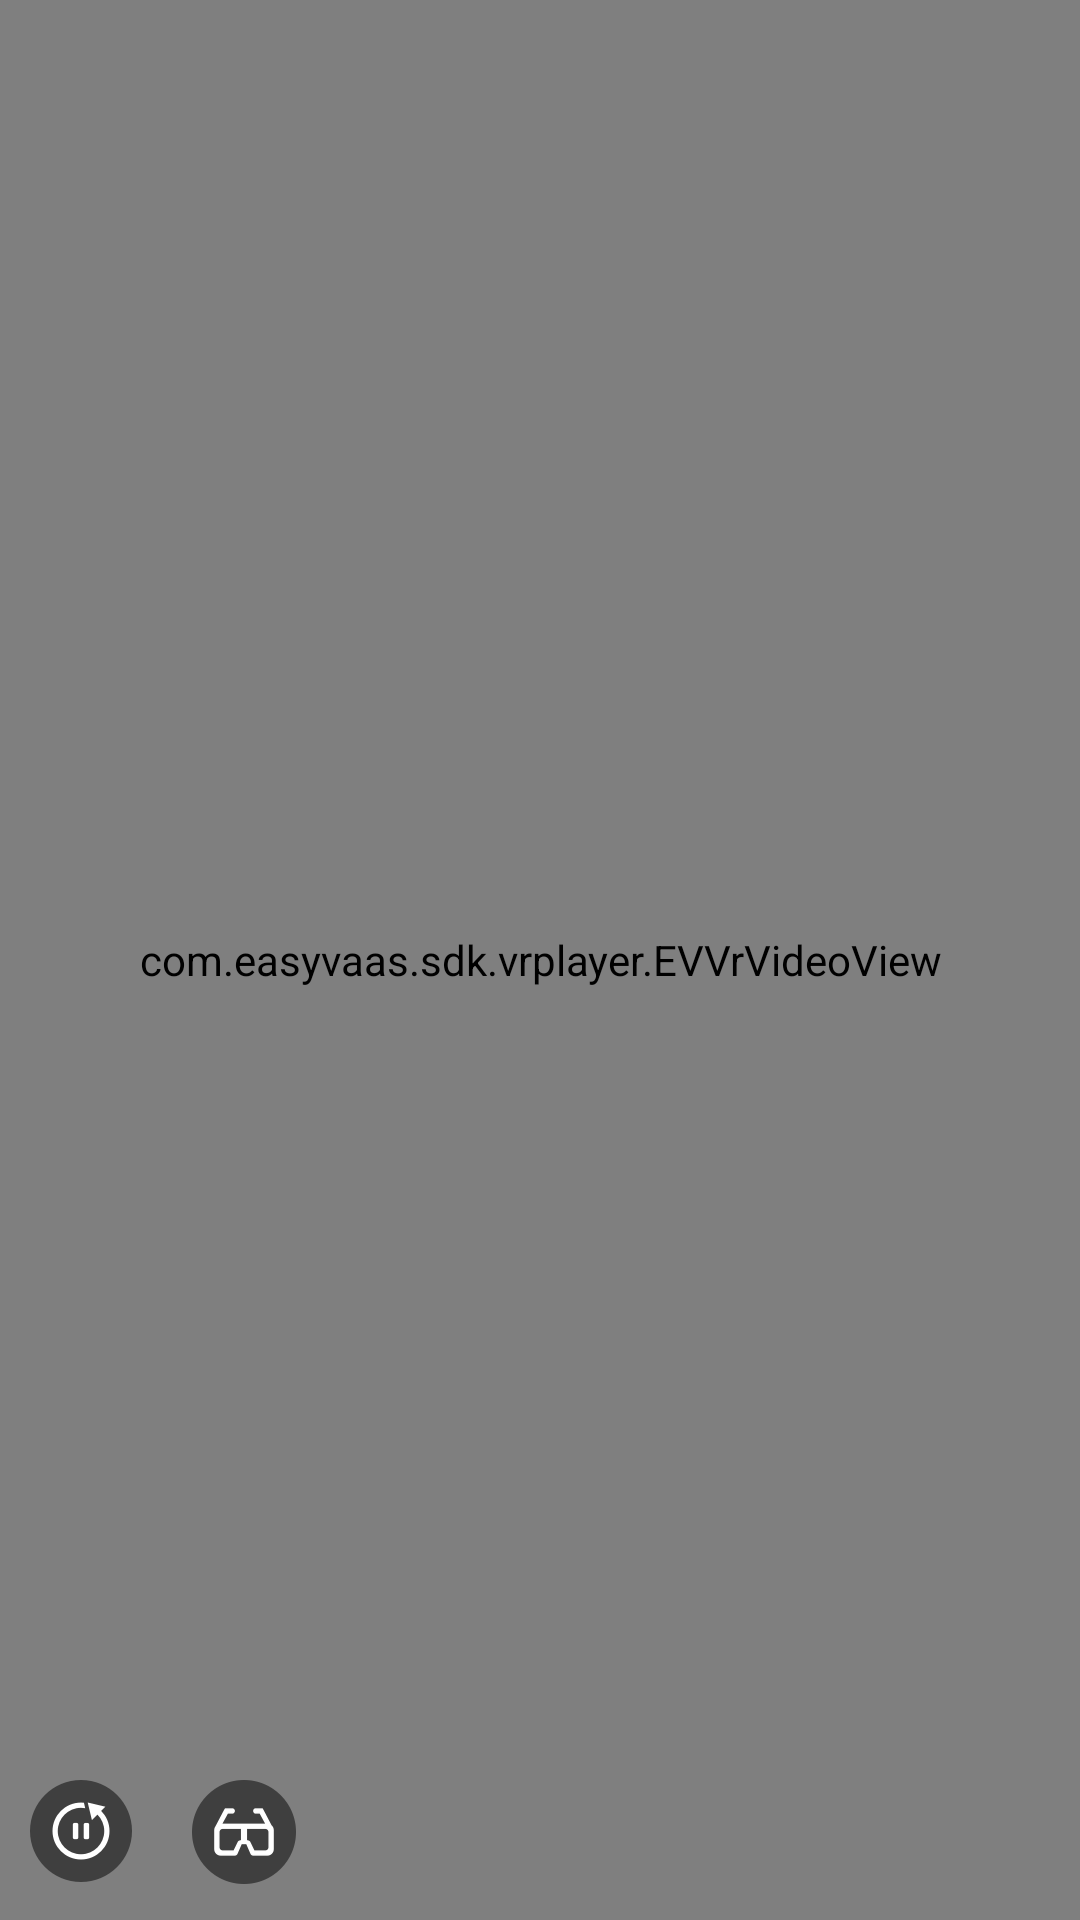

Screen size 1080px x 1920px. Icon name, then its box in pixels as {"left": x1, "top": y1, "right": x2, "bottom": y2}:
play back timeline: {"left": 30, "top": 1780, "right": 132, "bottom": 1882}
watch vr: {"left": 192, "top": 1780, "right": 296, "bottom": 1884}
